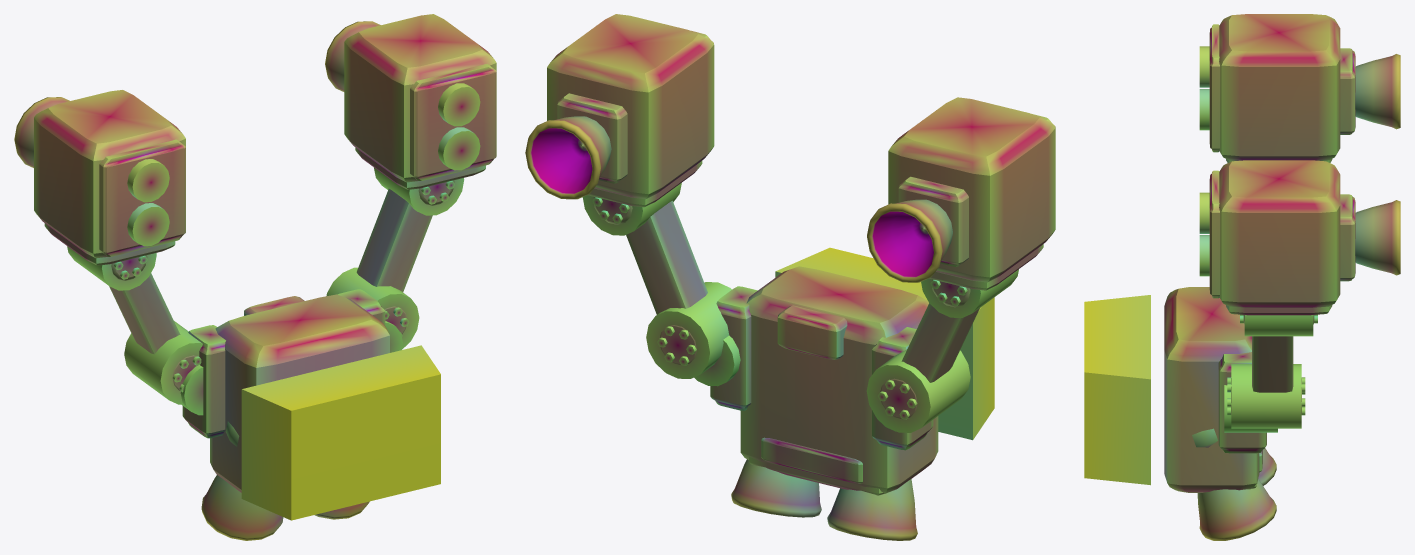
Rendered from llm_gen_dorsal_pack_034_be26f1.glb.
3 views of the same model, side by side, from view 1: azimuth 30°, elevation 25°; view 2: azimuth 150°, elevation 25°; view 3: azimuth 270°, elevation 25° (orthographic). The views are drawn at different scales.
Visible parts, largest first — view 1: mounting_dovetail_plug, adapter_dorsal_spine_dark, salvo_pod_box_6_cobalt_anodized_r, salvo_pod_box_6_cobalt_anodized_l, salvo_face_frame_7_barrel_metal_r, salvo_face_frame_7_barrel_metal_l, salvo_mount_pylon_2_adapter_dark_r, lower_boost_bell_12_vernier_bell_vernier_l, adapter_dorsal_outrigger_dark_l, salvo_mount_pylon_2_adapter_dark_l, adapter_sub_pylon_drum_dark_0_adapter_dark_l, adapter_sub_pylon_drum_dark_0_adapter_dark_r (+12 smaller); view 2: adapter_dorsal_spine_dark, salvo_pod_box_6_cobalt_anodized_r, salvo_pod_box_6_cobalt_anodized_l, mounting_dovetail_plug, exhaust_vernier_11_vernier_bell_vernier_r, exhaust_vernier_11_vernier_bell_vernier_l, salvo_mount_pylon_2_adapter_dark_r, adapter_sub_pylon_drum_dark_0_adapter_dark_l, adapter_sub_pylon_drum_dark_0_adapter_dark_r, lower_boost_bell_12_vernier_bell_vernier_l, lower_boost_bell_12_vernier_bell_vernier_r, salvo_mount_pylon_2_adapter_dark_l (+14 smaller); view 3: salvo_pod_box_6_cobalt_anodized_r, salvo_pod_box_6_cobalt_anodized_l, adapter_dorsal_spine_dark, mounting_dovetail_plug, adapter_sub_pylon_drum_dark_0_adapter_dark_r, lower_boost_bell_12_vernier_bell_vernier_r, exhaust_vernier_11_vernier_bell_vernier_r, exhaust_vernier_11_vernier_bell_vernier_l, salvo_mount_pylon_2_adapter_dark_r, adapter_dorsal_outrigger_dark_r, adapter_sub_upper_drum_dark_3_adapter_dark_r, salvo_face_frame_7_barrel_metal_r (+10 smaller).
Part boxes in pixels (bbox=[...]): mounting_dovetail_plug: bbox=[241, 345, 440, 520]; adapter_dorsal_spine_dark: bbox=[210, 294, 389, 492]; salvo_pod_box_6_cobalt_anodized_r: bbox=[344, 14, 496, 182]; salvo_pod_box_6_cobalt_anodized_l: bbox=[34, 90, 185, 258]; salvo_face_frame_7_barrel_metal_r: bbox=[410, 64, 496, 180]; salvo_face_frame_7_barrel_metal_l: bbox=[99, 139, 185, 256]; salvo_mount_pylon_2_adapter_dark_r: bbox=[356, 188, 432, 292]; lower_boost_bell_12_vernier_bell_vernier_l: bbox=[201, 475, 283, 540]; adapter_dorsal_outrigger_dark_l: bbox=[182, 325, 225, 438]; salvo_mount_pylon_2_adapter_dark_l: bbox=[109, 273, 180, 354]; adapter_sub_pylon_drum_dark_0_adapter_dark_l: bbox=[124, 321, 202, 404]; adapter_sub_pylon_drum_dark_0_adapter_dark_r: bbox=[326, 267, 419, 349]; adapter_dorsal_spine_dark: bbox=[740, 266, 938, 493]; salvo_pod_box_6_cobalt_anodized_r: bbox=[547, 14, 714, 199]; salvo_pod_box_6_cobalt_anodized_l: bbox=[888, 97, 1055, 282]; mounting_dovetail_plug: bbox=[775, 247, 994, 440]; exhaust_vernier_11_vernier_bell_vernier_r: bbox=[525, 116, 611, 199]; exhaust_vernier_11_vernier_bell_vernier_l: bbox=[867, 199, 952, 282]; salvo_mount_pylon_2_adapter_dark_r: bbox=[626, 200, 707, 314]; adapter_sub_pylon_drum_dark_0_adapter_dark_l: bbox=[866, 349, 970, 432]; adapter_sub_pylon_drum_dark_0_adapter_dark_r: bbox=[646, 282, 731, 378]; lower_boost_bell_12_vernier_bell_vernier_l: bbox=[827, 479, 917, 540]; lower_boost_bell_12_vernier_bell_vernier_r: bbox=[731, 459, 821, 517]; salvo_mount_pylon_2_adapter_dark_l: bbox=[901, 303, 979, 382]; salvo_pod_box_6_cobalt_anodized_r: bbox=[1219, 160, 1340, 307]; salvo_pod_box_6_cobalt_anodized_l: bbox=[1219, 14, 1340, 160]; adapter_dorsal_spine_dark: bbox=[1164, 287, 1259, 492]; mounting_dovetail_plug: bbox=[1084, 295, 1150, 485]; adapter_sub_pylon_drum_dark_0_adapter_dark_r: bbox=[1231, 364, 1301, 428]; lower_boost_bell_12_vernier_bell_vernier_r: bbox=[1197, 479, 1276, 540]; exhaust_vernier_11_vernier_bell_vernier_r: bbox=[1355, 200, 1400, 275]; exhaust_vernier_11_vernier_bell_vernier_l: bbox=[1355, 54, 1400, 129]; salvo_mount_pylon_2_adapter_dark_r: bbox=[1252, 336, 1293, 392]; adapter_dorsal_outrigger_dark_r: bbox=[1218, 352, 1266, 453]; adapter_sub_upper_drum_dark_3_adapter_dark_r: bbox=[1244, 315, 1313, 336]; salvo_face_frame_7_barrel_metal_r: bbox=[1209, 170, 1219, 298].
Bounding box in the file's own units: 54.65 × 53.73 × 37.92.
